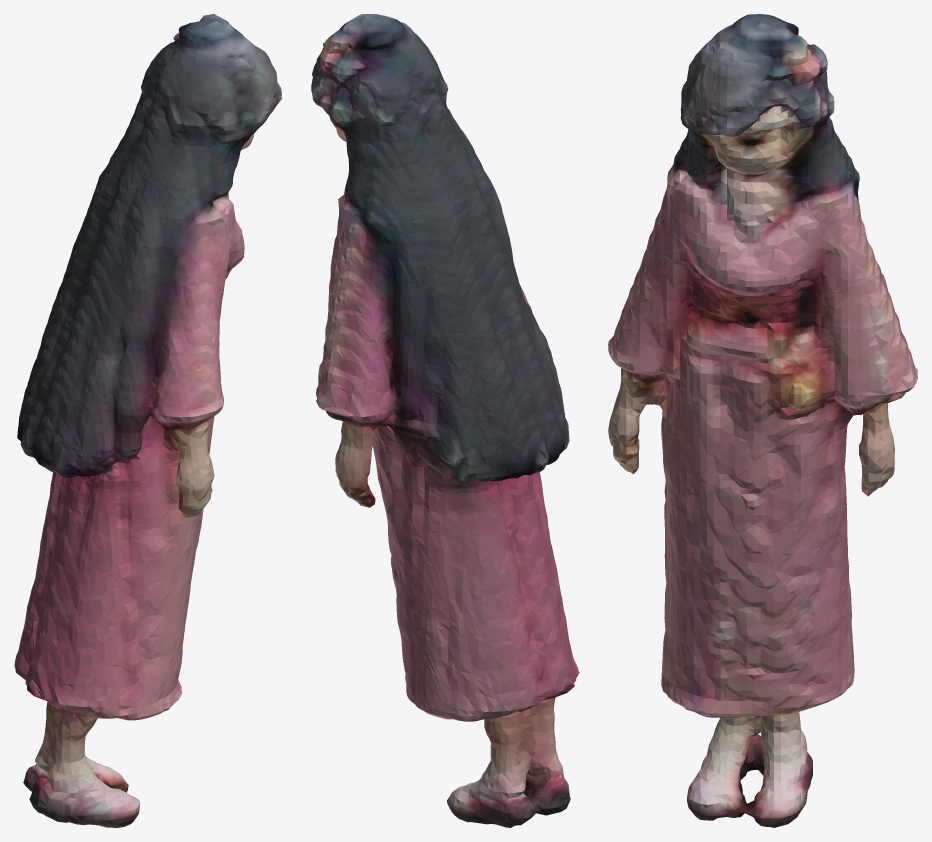
The model's file is player-female.glb.
3 views of the same model, side by side, from view 1: azimuth 30°, elevation 25°; view 2: azimuth 150°, elevation 25°; view 3: azimuth 270°, elevation 25° (orthographic). The views are drawn at different scales.
Visible parts, largest first — view 1: world; view 2: world; view 3: world.
Part boxes in pixels (left/top/right/bottom): world: left=14, top=14, right=282, bottom=827; world: left=311, top=14, right=579, bottom=827; world: left=608, top=14, right=917, bottom=827.
Bounding box in the file's own units: 0.3254 × 0.9644 × 0.3148.
